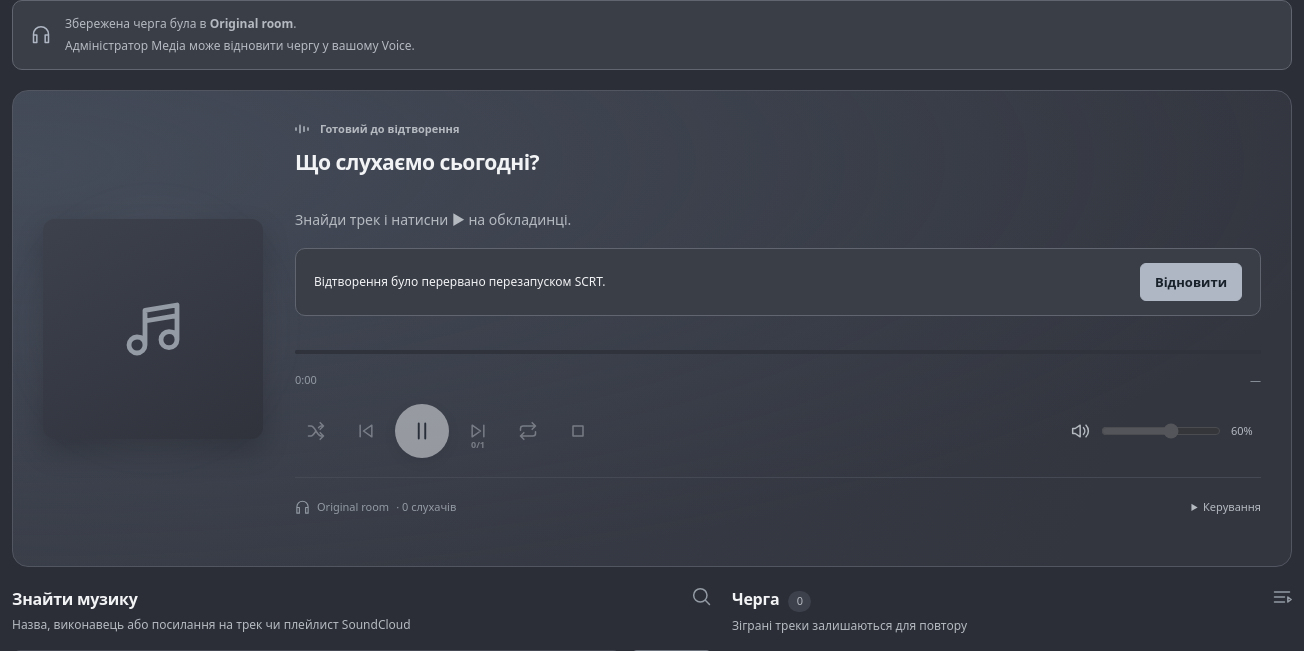
Test: Media catalog search feedback › lets an actor outside the saved Voice request recovery and displays the live worker denial (null)
Click the button "Відновити".
click(1191, 282)  # box [1140,263,1242,301]
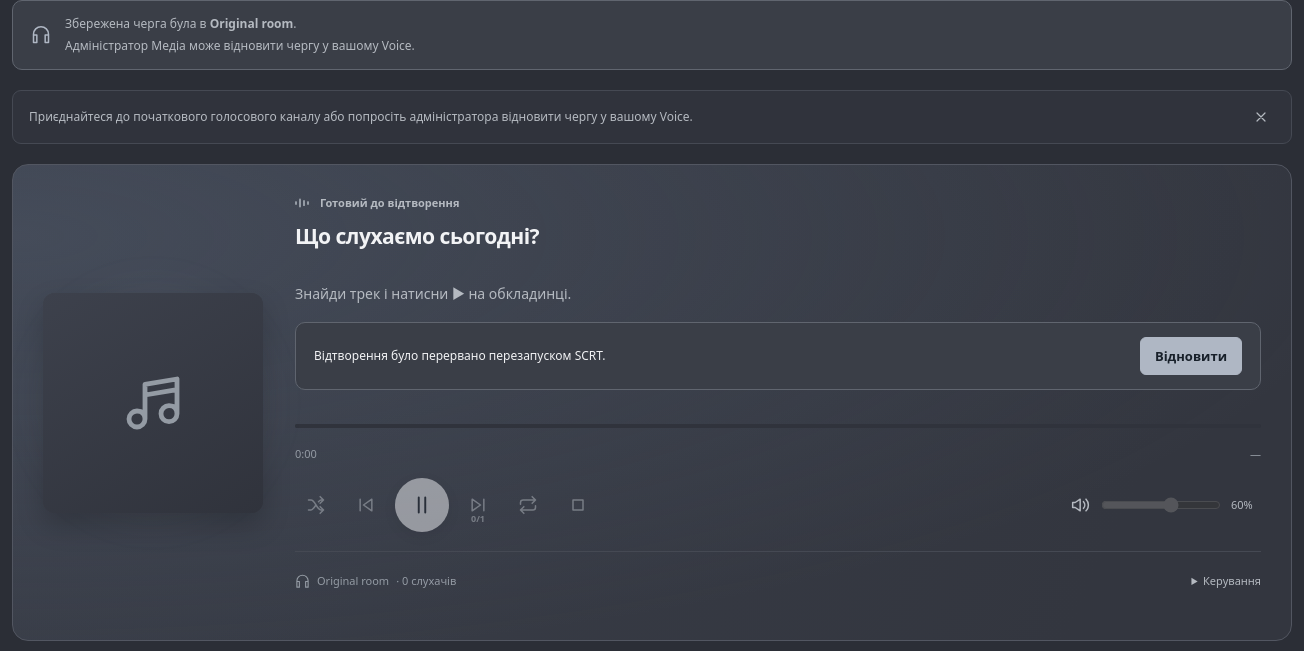
Expected: the button "Відновити" is enabled, [1140,337,1242,375]
Result: the text "Приєднайтеся до початкового голосового каналу або попросіть адміністратора відновити чергу у вашому Voice." is shown at [29,108,693,125]
